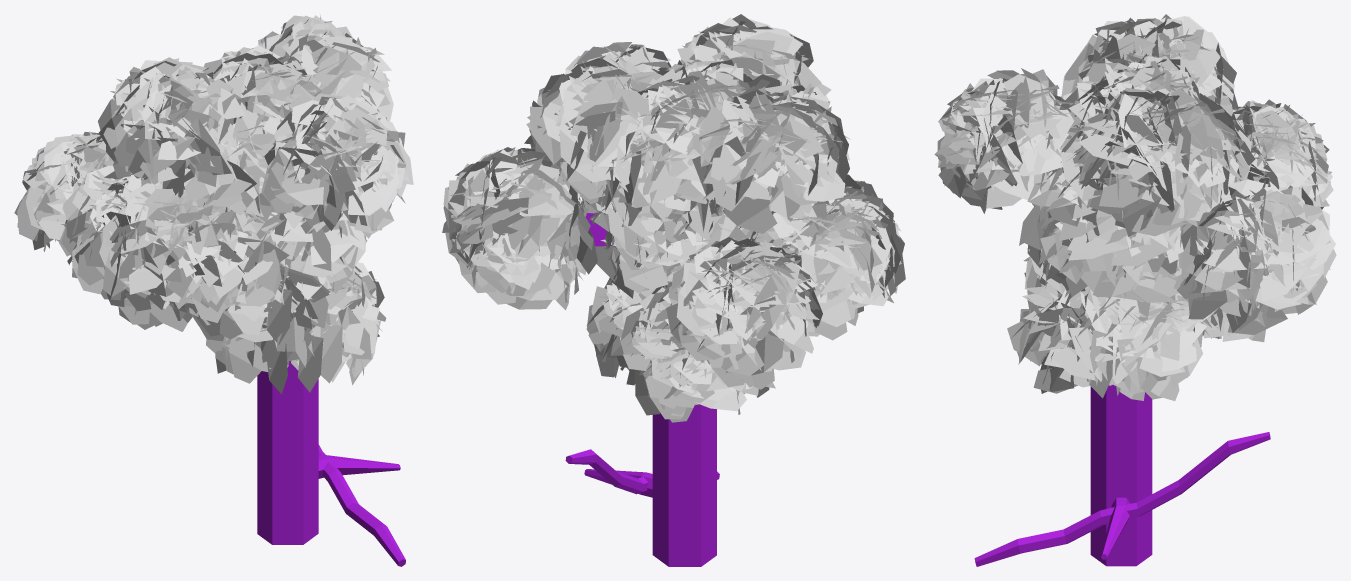
The model's file is tree path.fbx.
3 views of the same model, side by side, from view 1: azimuth 30°, elevation 25°; view 2: azimuth 150°, elevation 25°; view 3: azimuth 270°, elevation 25° (orthographic). The views are drawn at different scales.
Visible parts, largest first — view 1: Tree Branch.222; view 2: Tree Branch.222; view 3: Tree Branch.222.
Boxes of the visible parts, box(x1,y1,x2,y2) form: Tree Branch.222: box(14, 14, 413, 566); Tree Branch.222: box(442, 14, 905, 566); Tree Branch.222: box(934, 14, 1336, 566).
Size of the model in its own units: 7185 by 8999 by 6731.
